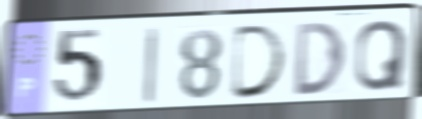5: (51, 27, 106, 111)
8: (176, 24, 226, 104)
D: (227, 22, 290, 102), (293, 19, 348, 99)
I: (141, 25, 160, 108)
Q: (352, 17, 410, 95)
